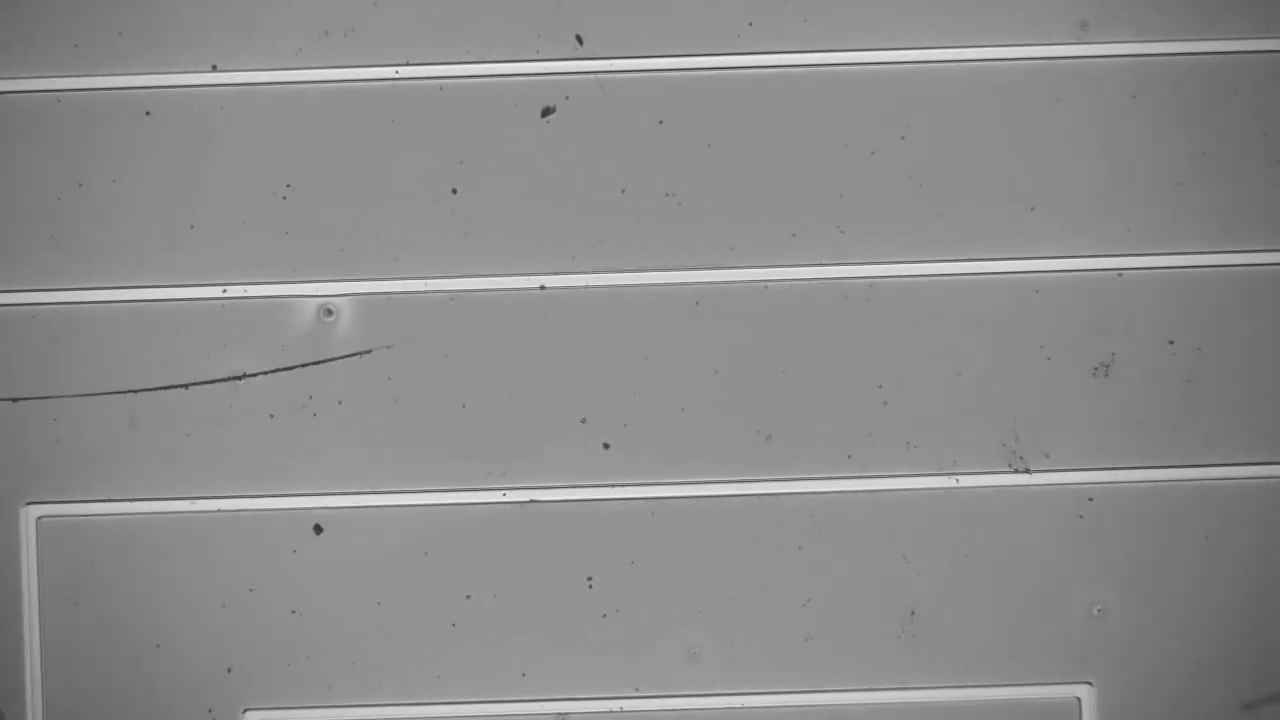scratch: (0, 351, 390, 430)
